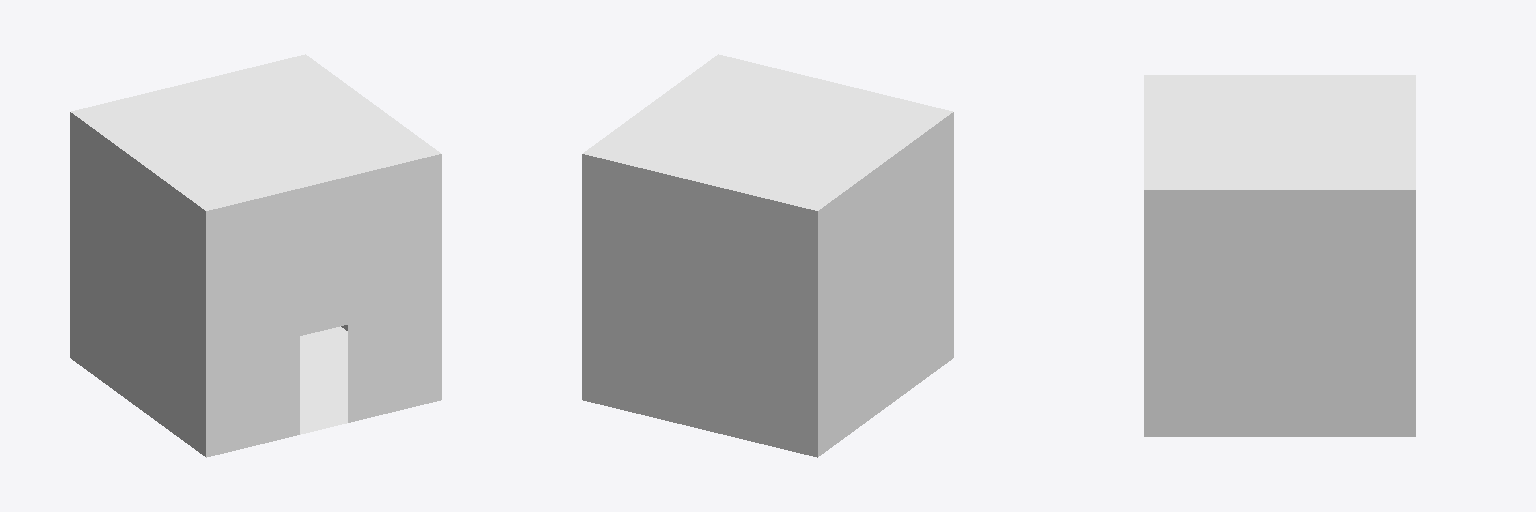
File: whiteAndRedRoom.obj
3 views of the same model, side by side, from view 1: azimuth 30°, elevation 25°; view 2: azimuth 150°, elevation 25°; view 3: azimuth 270°, elevation 25° (orthographic).
Parts seen in each view (by area): view 1: whiteAndRedRoom; view 2: whiteAndRedRoom; view 3: whiteAndRedRoom.
Boxes of the visible parts, x1=… form: whiteAndRedRoom: x1=70, y1=54, x2=441, y2=457; whiteAndRedRoom: x1=582, y1=54, x2=953, y2=457; whiteAndRedRoom: x1=1144, y1=75, x2=1415, y2=436.
Bounding box in the file's own units: 40 × 40 × 40.